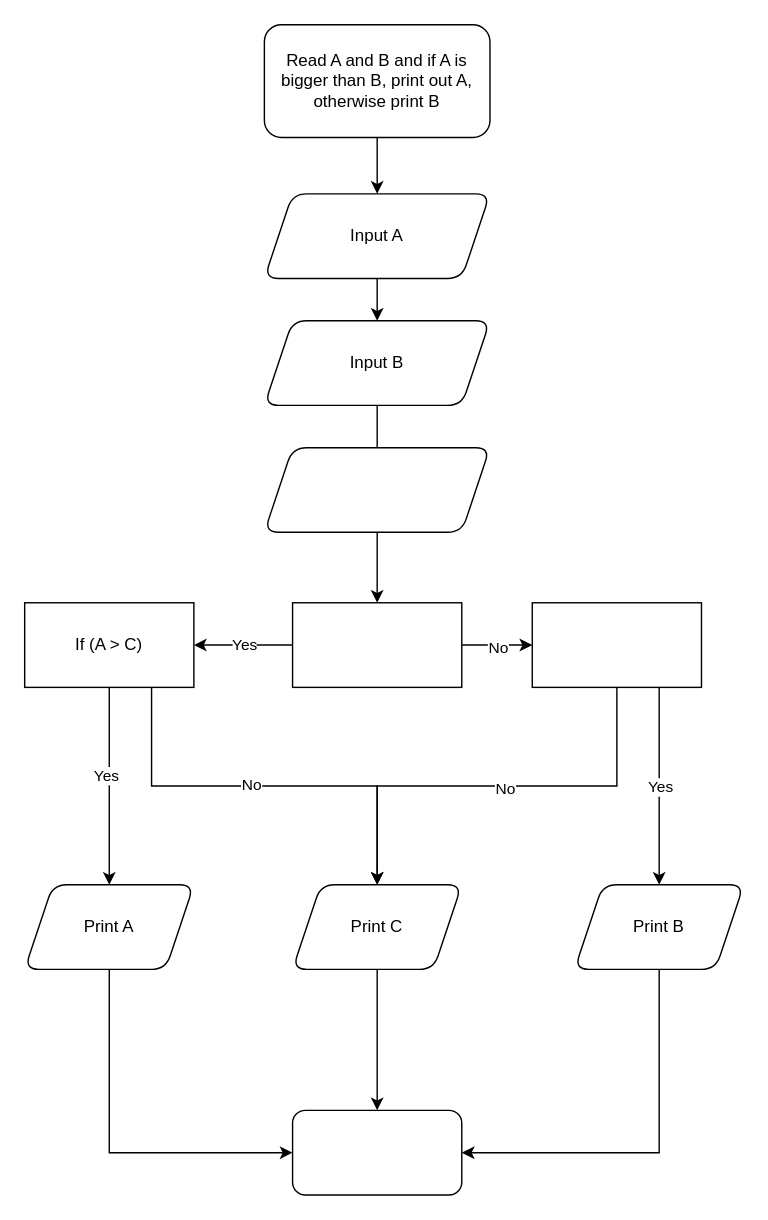
This 768x1220 diagram has some shape labels left out. Here are the shapes that lost their labels. From the top down, the centre of each, then its label:
At point 376,489: "Input C".
At point 376,644: "If (A > B)".
At point 616,644: "If (B > C)".
At point 376,1152: "End".
